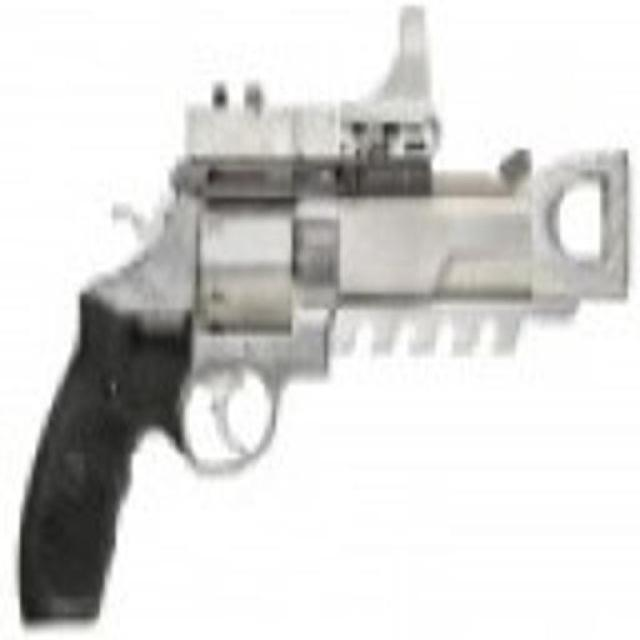pistol: (7, 90, 631, 634)
